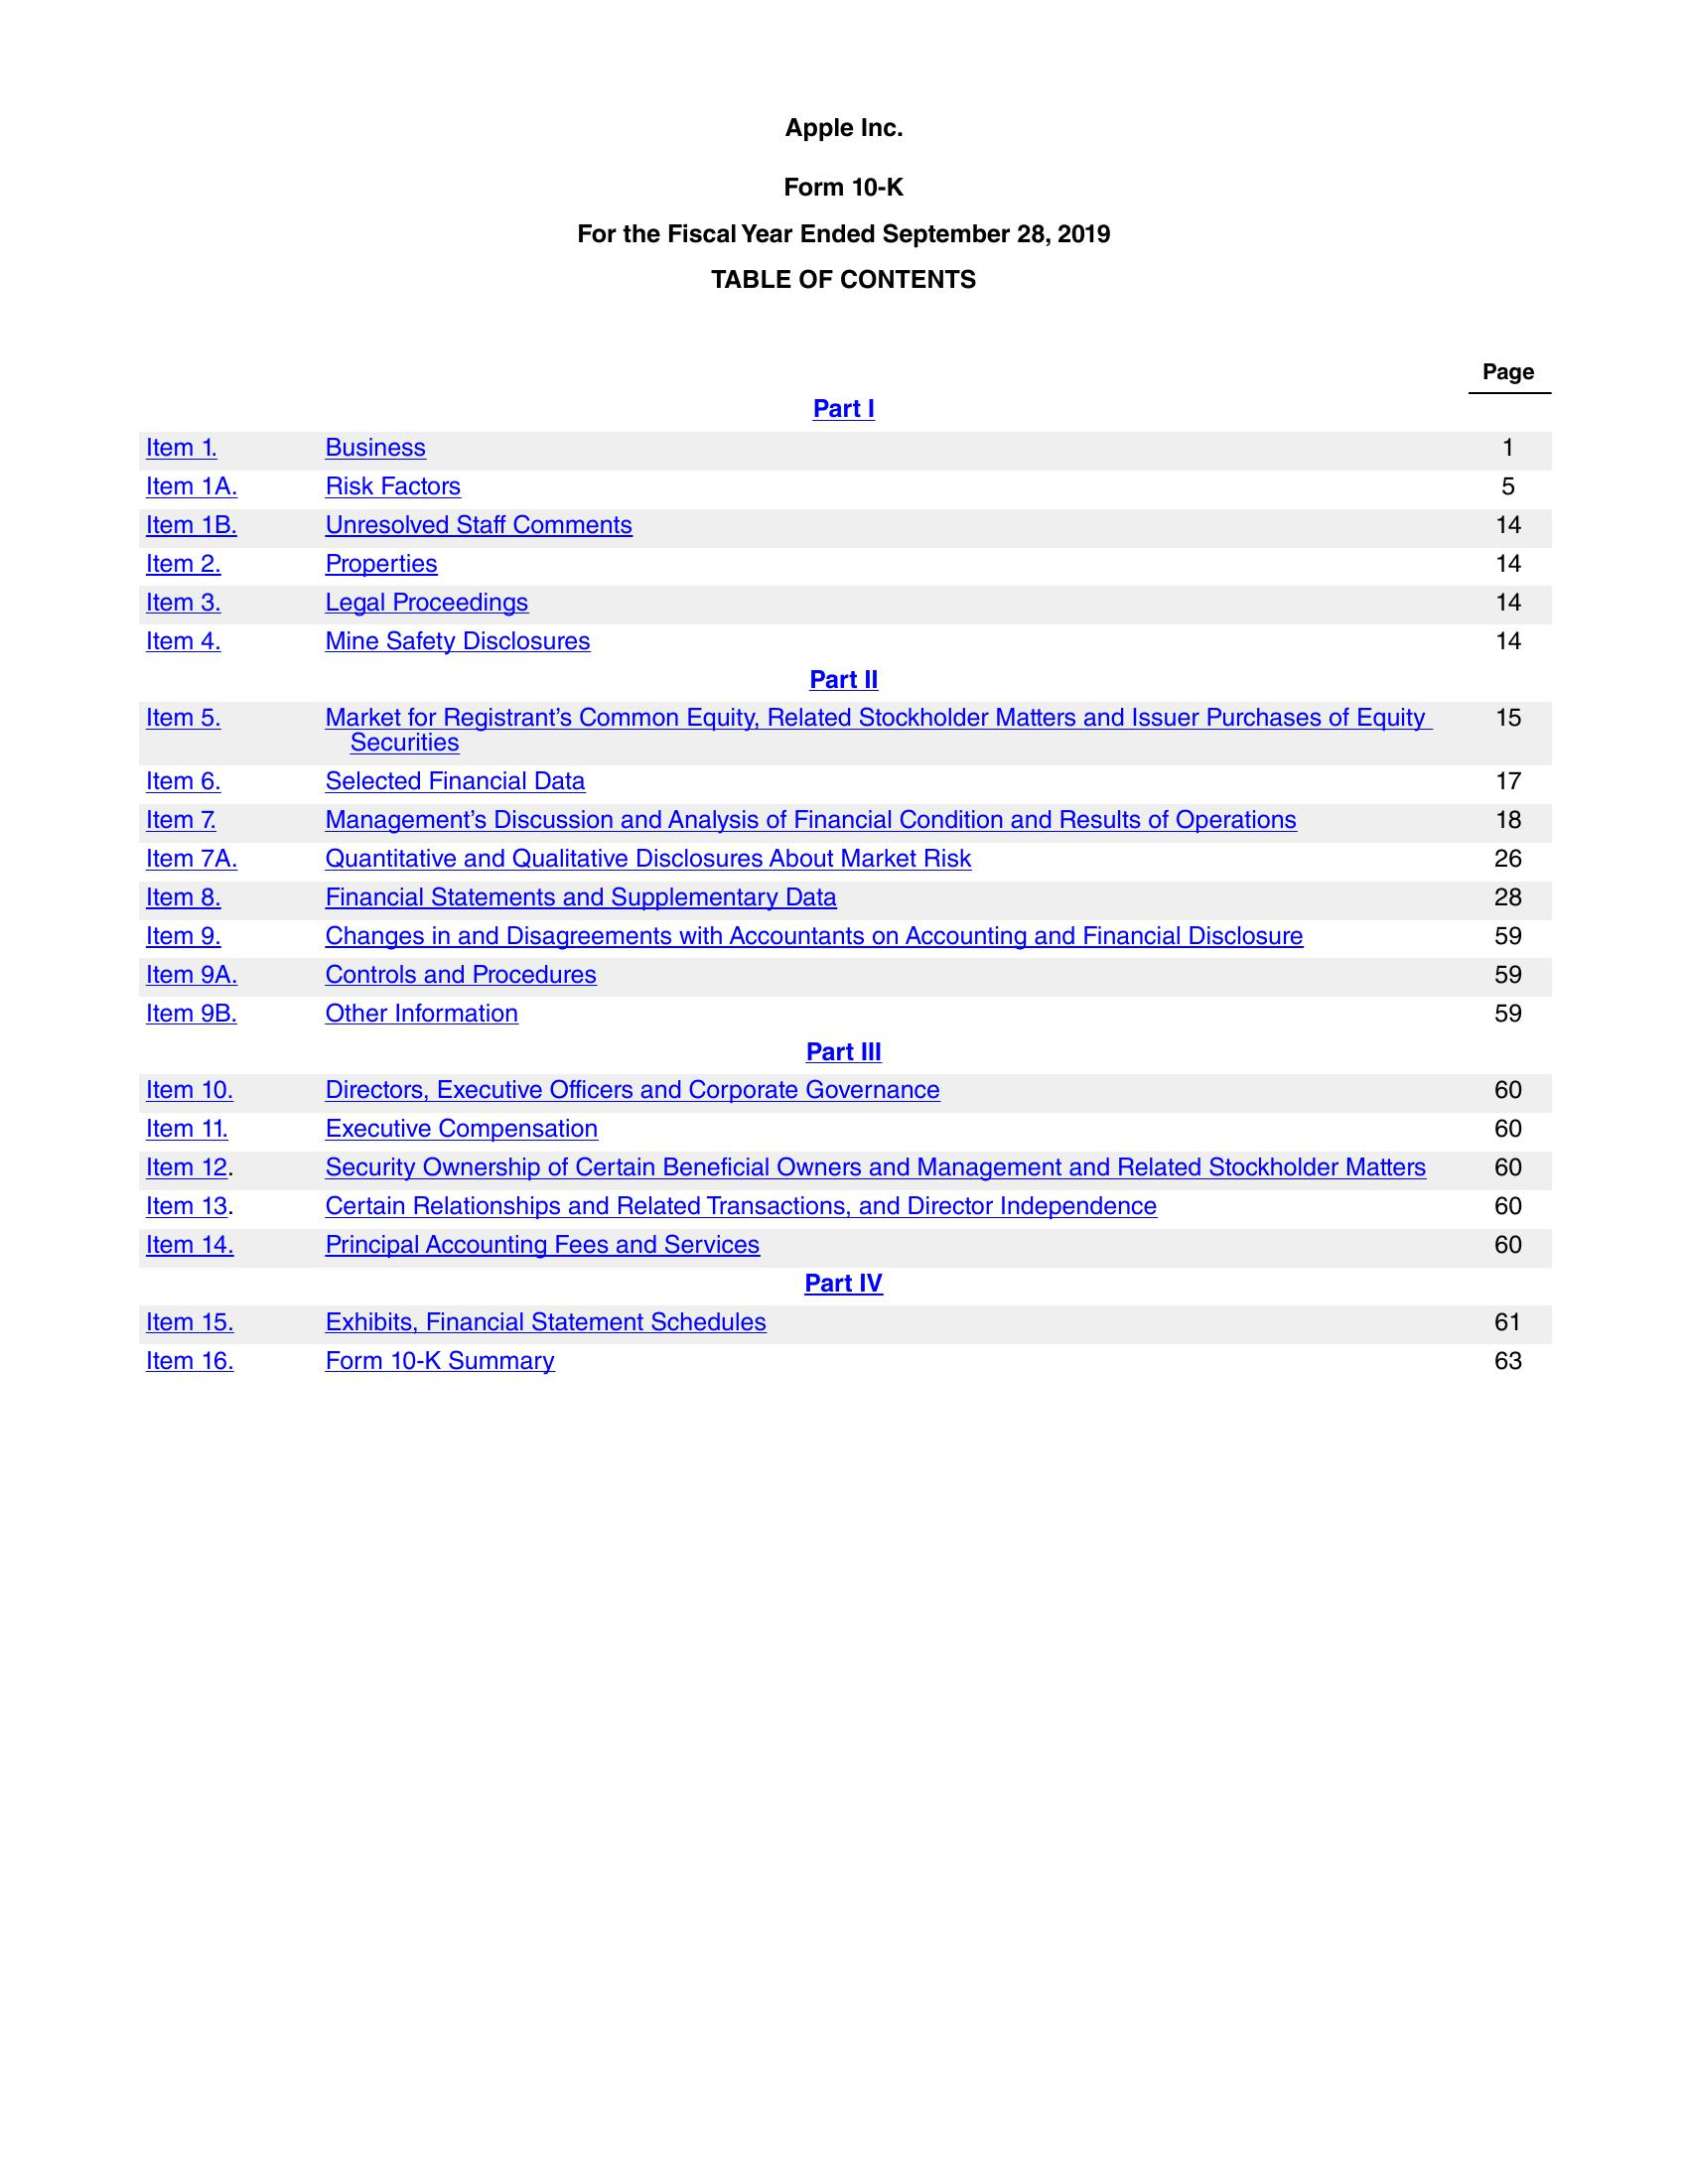table: (142, 362, 1550, 1386)
